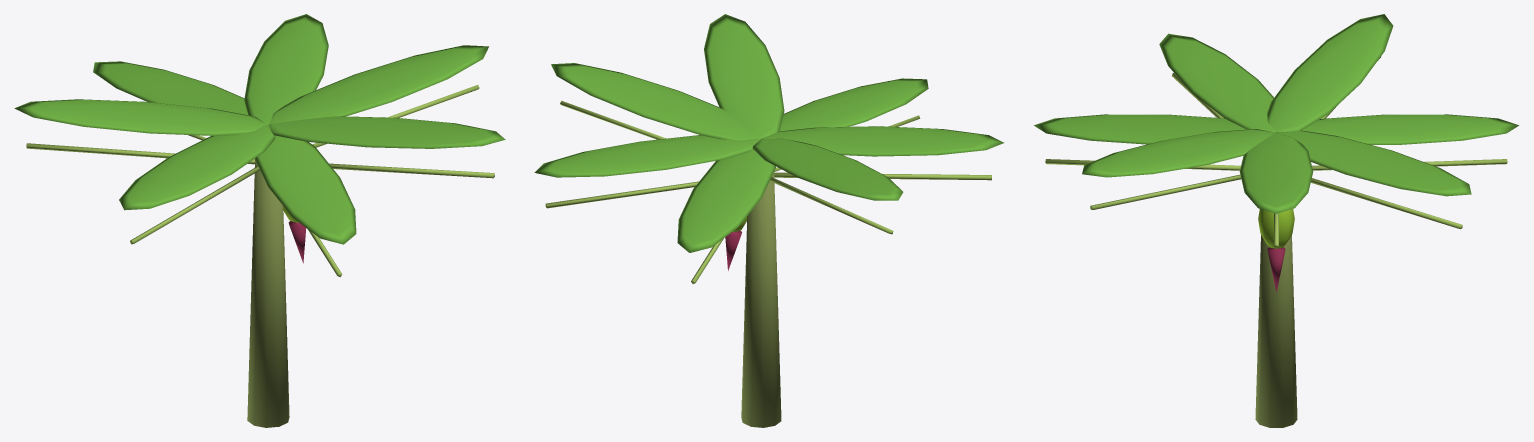
File: prop_pohon_pisang.glb
3 renders of one model, left to right at view 1: azimuth 30°, elevation 25°; view 2: azimuth 150°, elevation 25°; view 3: azimuth 270°, elevation 25°, orthographic. The views are drawn at different scales.
Visible parts, largest first — view 1: pohon_pisang; view 2: pohon_pisang; view 3: pohon_pisang.
Part boxes in pixels (box(x1,y1,x2,y2)): pohon_pisang: box(14, 14, 505, 427); pohon_pisang: box(534, 14, 1004, 427); pohon_pisang: box(1034, 14, 1518, 427).
Size of the model in its own units: 3.61 by 2.61 by 3.7.
